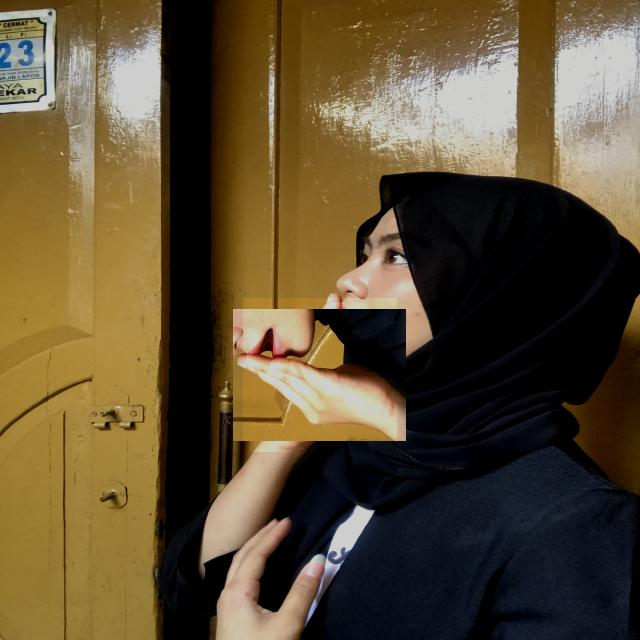ngantuk: (243, 298, 397, 452)
